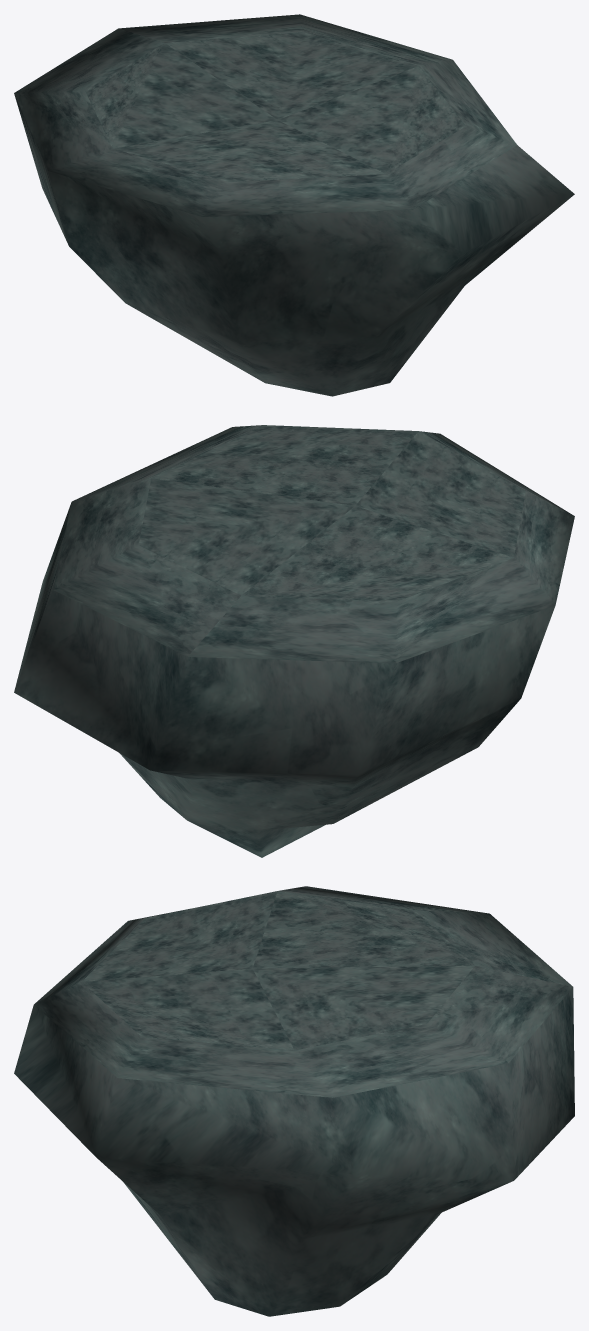
The model's file is Rock_03_Art.fbx.
The picture shows the model from 3 angles, top to bottom: view 1: azimuth 30°, elevation 25°; view 2: azimuth 150°, elevation 25°; view 3: azimuth 270°, elevation 25°; orthographic projection. The views are drawn at different scales.
Visible parts, largest first — view 1: Rock_03; view 2: Rock_03; view 3: Rock_03.
Part boxes in pixels (left/top/right/bottom): Rock_03: left=14, top=14, right=574, bottom=396; Rock_03: left=14, top=425, right=574, bottom=857; Rock_03: left=14, top=886, right=574, bottom=1316.
Bounding box in the file's own units: 806 × 537 × 873.
